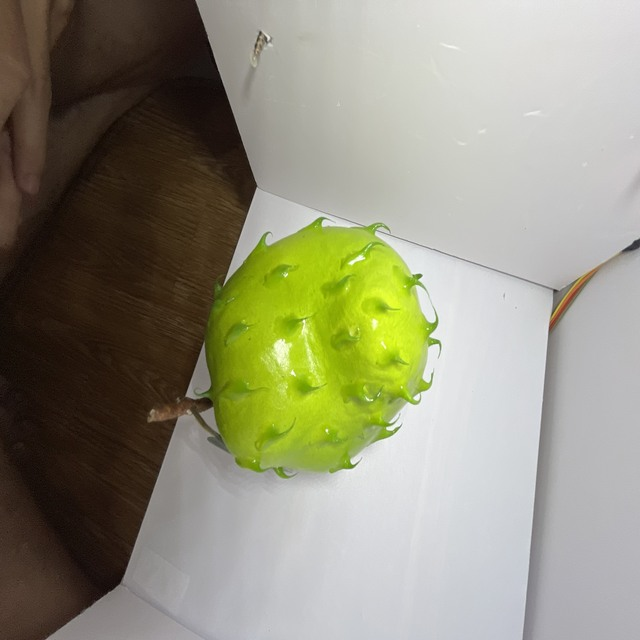Man cau: (193, 203, 448, 482)
